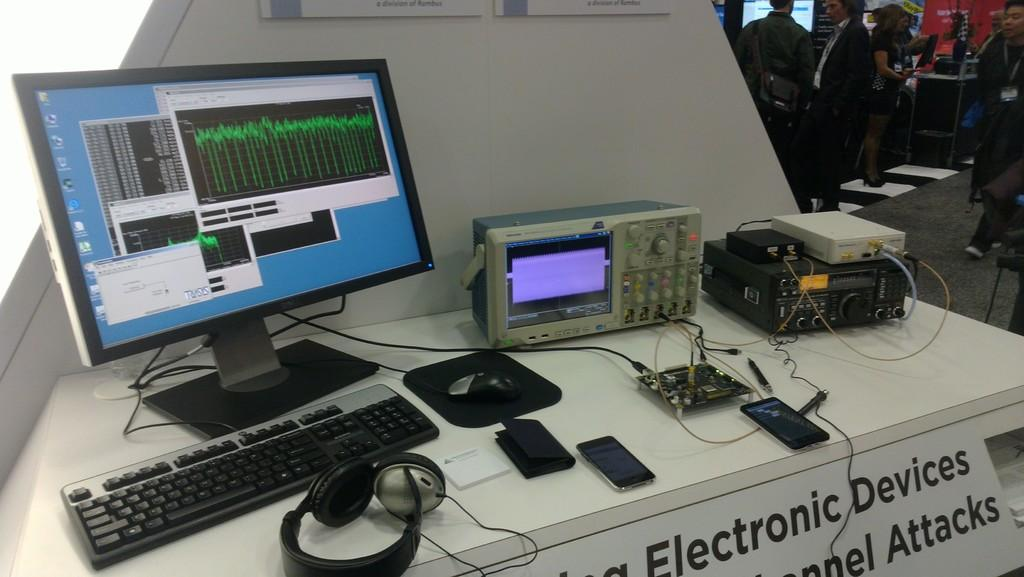Computer-monitor: (17, 62, 451, 414)
